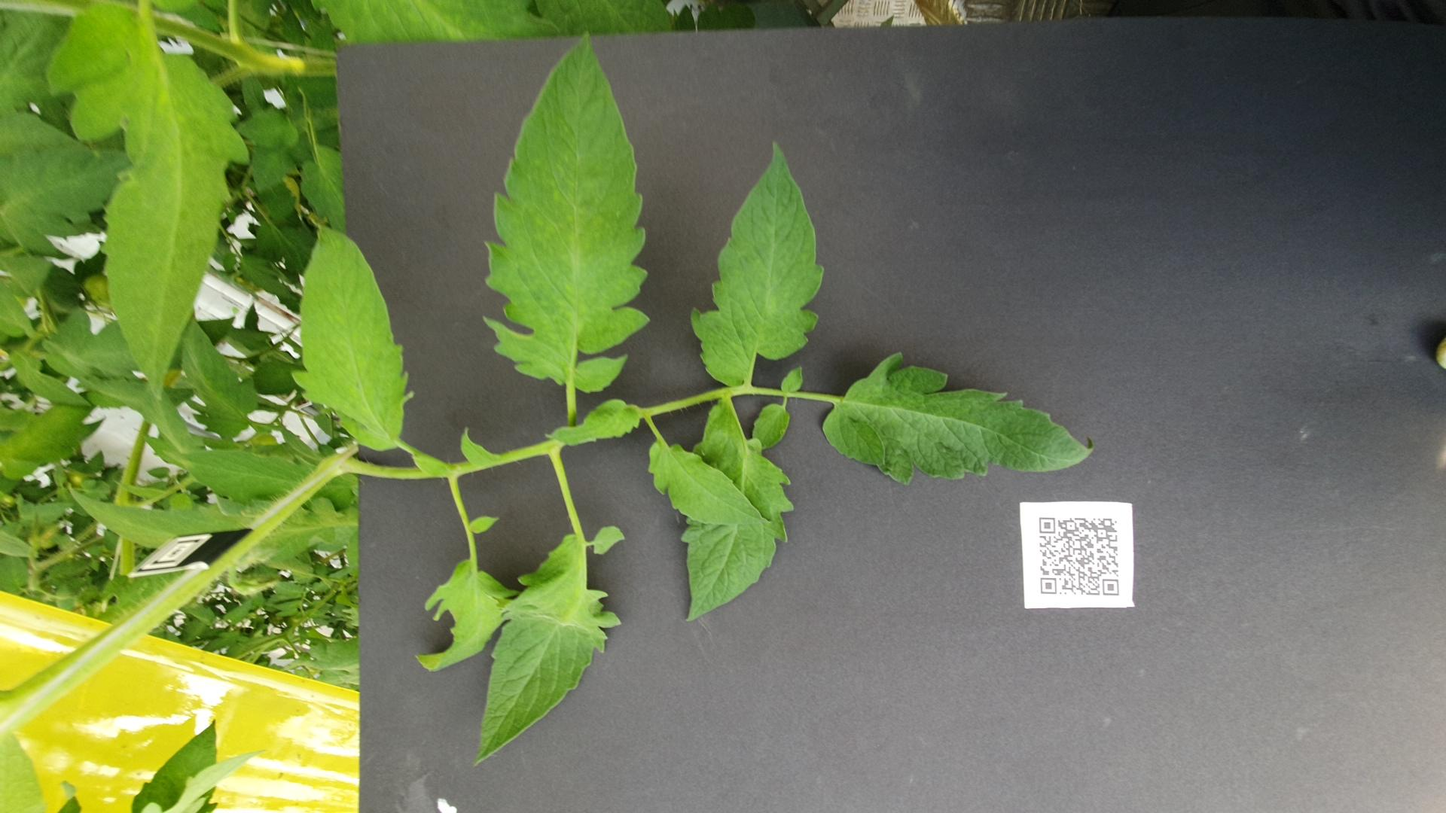Healthy: (731, 23, 1446, 141), (746, 273, 1387, 365), (83, 266, 513, 352), (582, 462, 819, 616), (760, 387, 1196, 465), (645, 163, 1046, 234), (339, 382, 736, 448), (510, 364, 661, 432), (669, 101, 886, 145), (643, 422, 728, 445)
